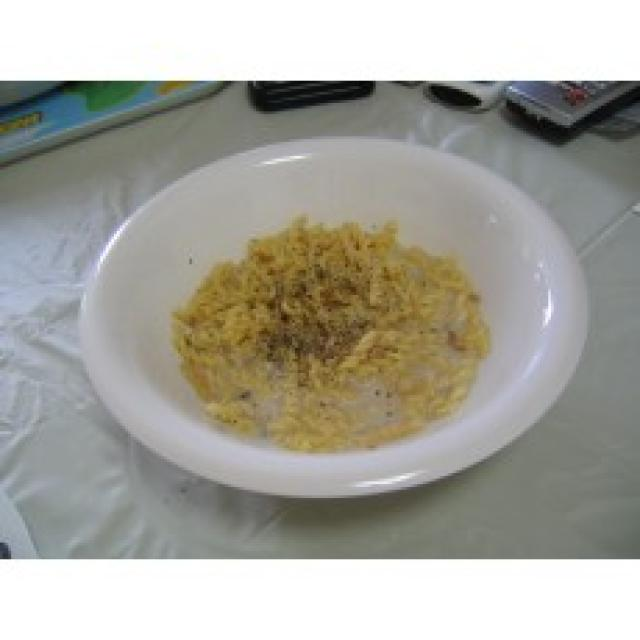汤锅炖物: (72, 117, 590, 498)
